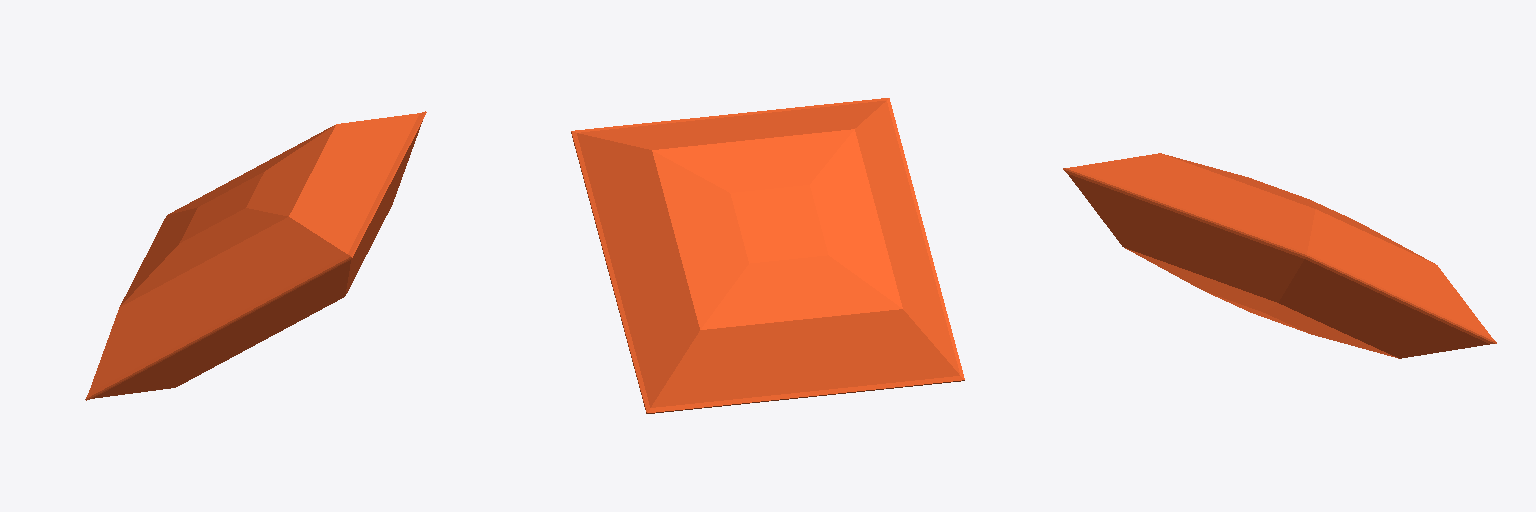
File: sofa2.obj
3 renders of one model, left to right at view 1: azimuth 30°, elevation 25°; view 2: azimuth 150°, elevation 25°; view 3: azimuth 270°, elevation 25°, orthographic.
Visible parts, largest first — view 1: Cube.002; view 2: Cube.002; view 3: Cube.002.
Part boxes in pixels (x1,y1,x2,y2): Cube.002: (85, 111, 426, 400); Cube.002: (571, 98, 964, 413); Cube.002: (1063, 153, 1496, 358).
Bounding box in the file's own units: 4.02 × 1.98 × 4.11.